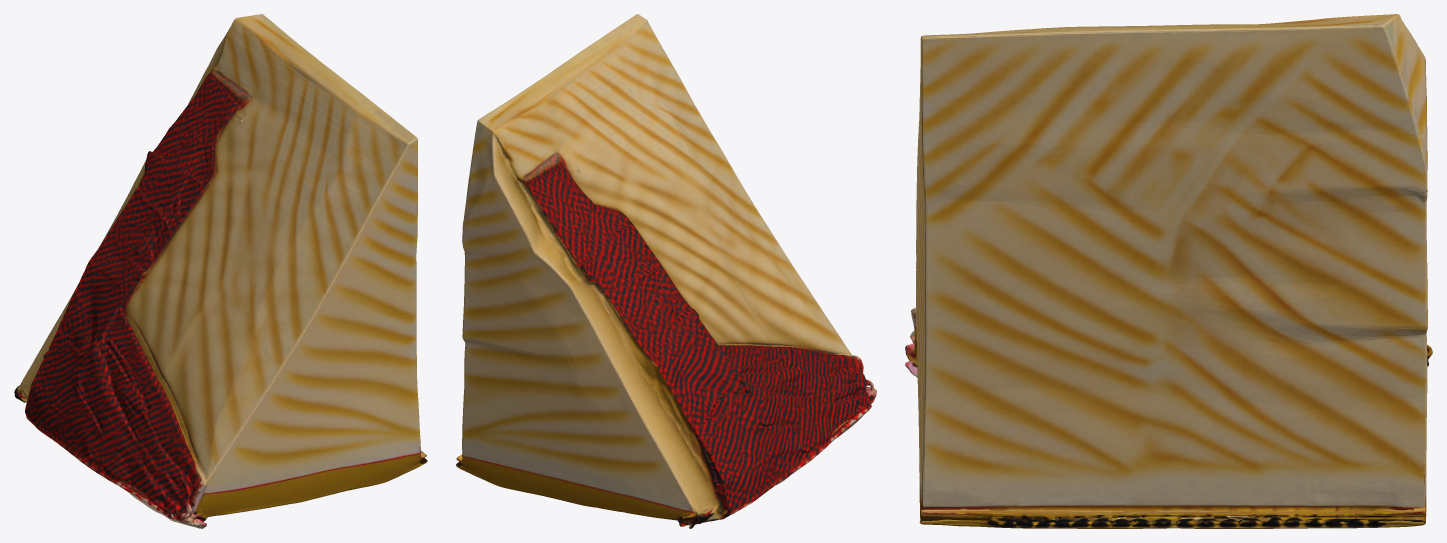
File: image_0003_segmented.glb
3 views of the same model, side by side, from view 1: azimuth 30°, elevation 25°; view 2: azimuth 150°, elevation 25°; view 3: azimuth 270°, elevation 25° (orthographic). The views are drawn at different scales.
Parts seen in each view (by area): view 1: tmplrcxep5f.ply; view 2: tmplrcxep5f.ply; view 3: tmplrcxep5f.ply.
Boxes of the visible parts, x1,y1,x2,y2 form: tmplrcxep5f.ply: (14,14,427,528); tmplrcxep5f.ply: (456,14,876,528); tmplrcxep5f.ply: (905,14,1432,528).
Bounding box in the file's own units: 1.61 × 1.99 × 1.88.
Materials: 1 (1 with a texture image).
